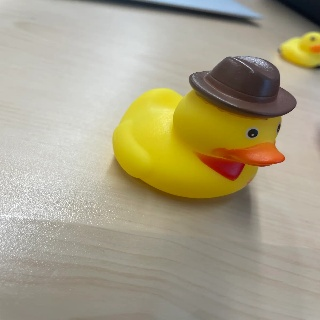duck_specialty: (112, 55, 297, 199), (112, 116, 117, 120)
